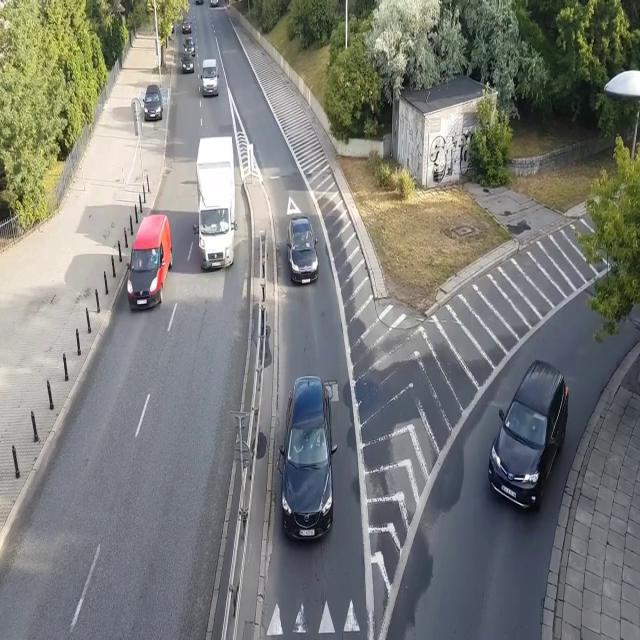car: (487, 358, 570, 516), (277, 375, 338, 544), (285, 216, 319, 286), (142, 85, 164, 122), (180, 52, 194, 74), (182, 36, 195, 56), (181, 16, 192, 35), (209, 0, 218, 7)
truck: (192, 136, 238, 272)
van: (125, 213, 173, 312), (200, 57, 220, 98)
